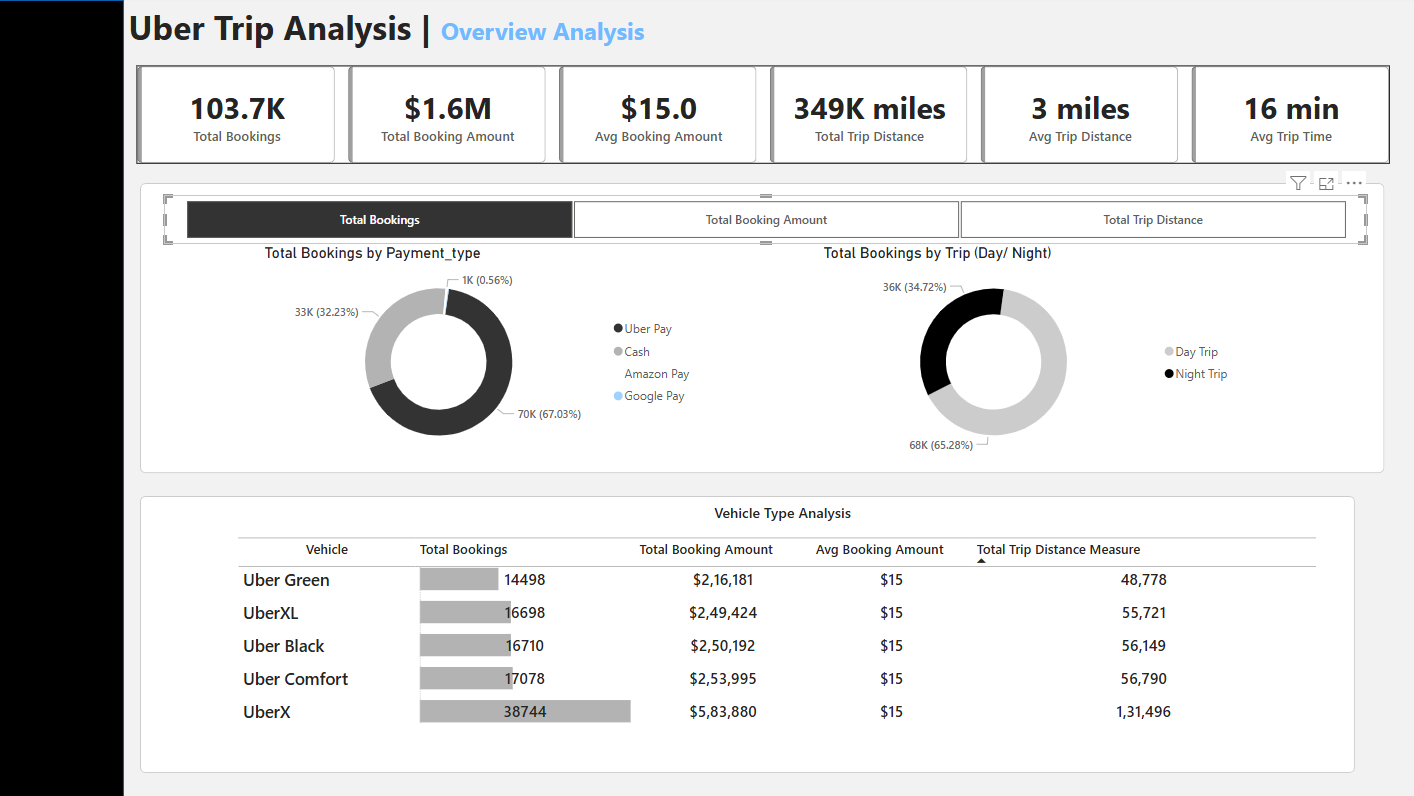

Layout of this report page (visuals, bound fields, positions):
{"tool":"powerbi","page":{"name":"Page 1","canvas":[1600,900],"ordinal":0},"visuals":[{"type":"shape","box":[9.6,0,142,899.2],"z":0},{"type":"textbox","title":"Uber ","box":[152.2,0,778,68.3],"z":1000},{"type":"cardVisual","fields":{"Data":["Trip Details.Total Bookings","Trip Details.Total Booking Amount","Trip Details.Avg Booking Amount","Trip Details.Total Trip Distance","Trip Details.Avg Trip Distance","Trip Details.Avg Trip Time"]},"box":[161.7,68.3,1415,120],"z":2000},{"type":"shape","box":[170,205,1393.3,325],"z":3000},{"type":"slicer","fields":{"Values":["Dynamic Measure.Dynamic Measure"]},"box":[196.7,218.3,1346.7,55],"z":4000},{"type":"donutChart","fields":{"Y":["Trip Details.Total Bookings"],"Category":["Trip Details.Payment_type"]},"box":[305,273.3,495,245],"z":5000},{"type":"donutChart","fields":{"Y":["Trip Details.Total Bookings"],"Category":["Trip Details.Trip Type (Day/ Night)"]},"box":[930,273.3,471.7,245],"z":6000},{"type":"shape","box":[170,555,1360,310],"z":7000},{"type":"pivotTable","fields":{"Rows":["Trip Details.Vehicle"],"Values":["Trip Details.Total Bookings","Trip Details.Total Booking Amount","Trip Details.Avg Booking Amount","Trip Details.Total Trip Distance Measure"]},"box":[275,596.7,1221.7,250],"z":8000},{"type":"card","fields":{"Values":["Trip Details.Title For Grid"]},"box":[800,555,178.3,41.7],"z":9000}]}

Visuals, with their boxes in screenshot pixels (x1, y1, x2, y2), scaled from the page's 1600x900 canvas onto the 1414x796 screenshot:
shape: rect(8, 0, 134, 795)
"Uber " textbox: rect(135, 0, 822, 60)
cardVisual - Trip Details.Total Bookings x Trip Details.Total Booking Amount: rect(143, 60, 1393, 167)
shape: rect(150, 181, 1382, 469)
slicer - Dynamic Measure.Dynamic Measure: rect(174, 193, 1364, 242)
donutChart - Trip Details.Total Bookings x Trip Details.Payment_type: rect(270, 242, 707, 458)
donutChart - Trip Details.Total Bookings x Trip Details.Trip Type (Day/ Night): rect(822, 242, 1239, 458)
shape: rect(150, 491, 1352, 765)
pivotTable - Trip Details.Vehicle x Trip Details.Total Bookings: rect(243, 528, 1323, 749)
card - Trip Details.Title For Grid: rect(707, 491, 865, 528)
